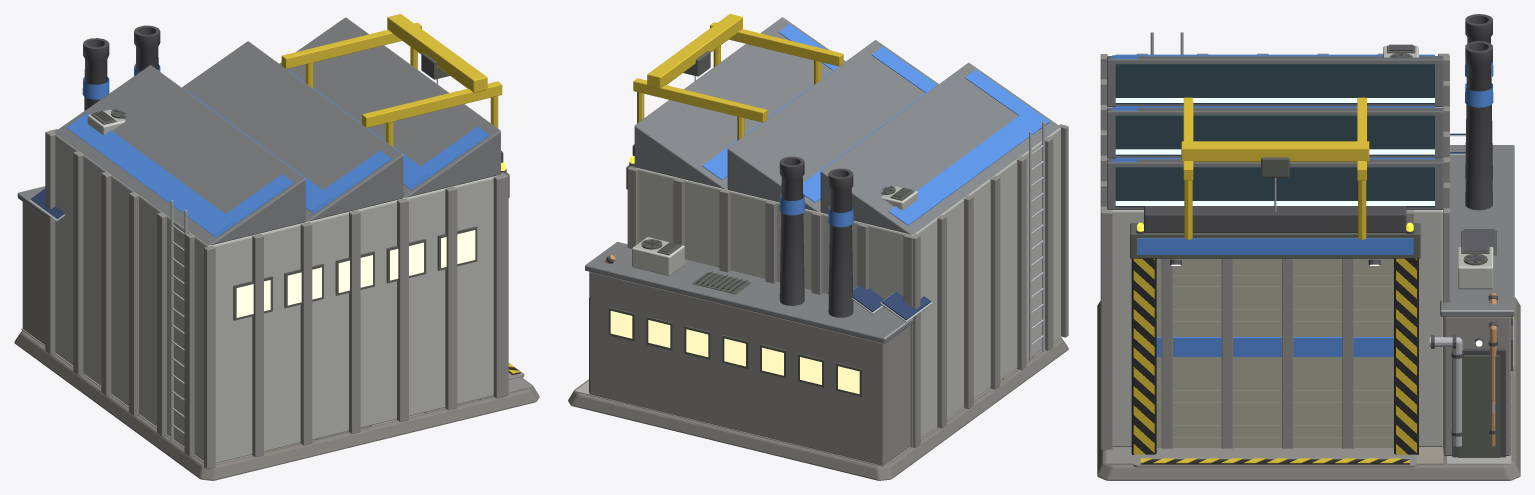
File: factory_blue.glb
3 renders of one model, left to right at view 1: azimuth 30°, elevation 25°; view 2: azimuth 150°, elevation 25°; view 3: azimuth 270°, elevation 25°, orthographic. The views are drawn at different scales.
Visible parts, largest first — view 1: Body; view 2: Body; view 3: Body.
Boxes of the visible parts, x1,y1,x2,y2 form: Body: [14, 14, 539, 480]; Body: [568, 14, 1068, 480]; Body: [1097, 14, 1520, 480].
Size of the model in its own units: 5.99 by 5.04 by 5.98.
1 material, 1 textured.
